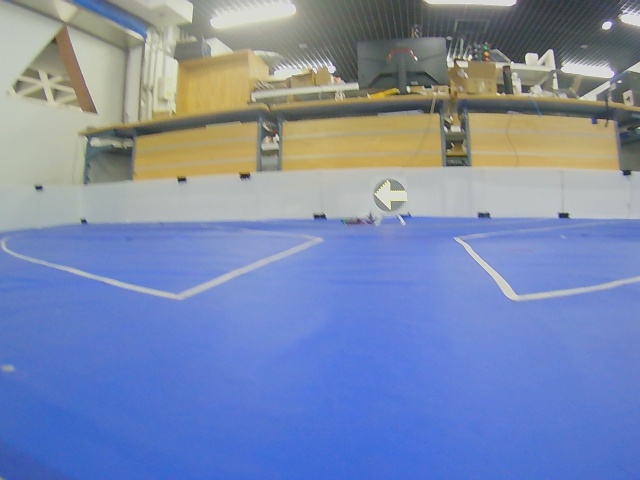left_yellow: (373, 179, 408, 212)
